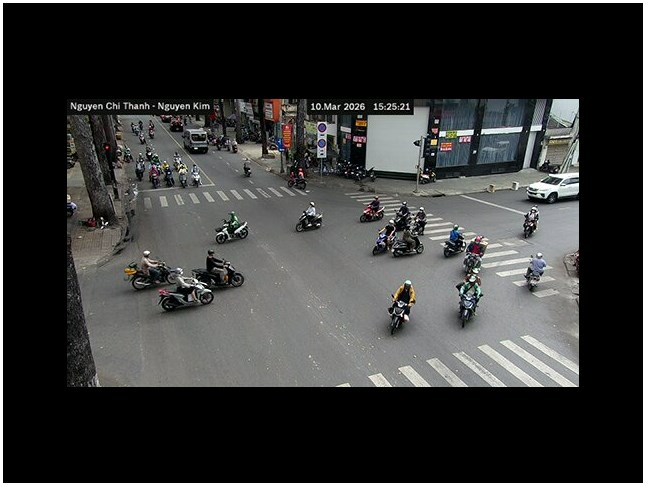car: (525, 173, 579, 203), (184, 129, 210, 154)
motorbike: (157, 275, 214, 312), (194, 252, 244, 288), (372, 224, 423, 258), (455, 287, 482, 328), (214, 216, 249, 244), (294, 203, 323, 232), (442, 224, 465, 258), (521, 208, 540, 239)
